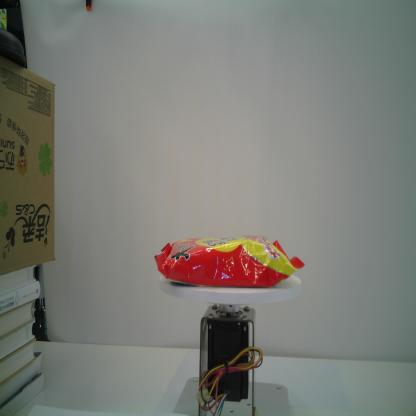Instant Noodles: (155, 234, 305, 288)
